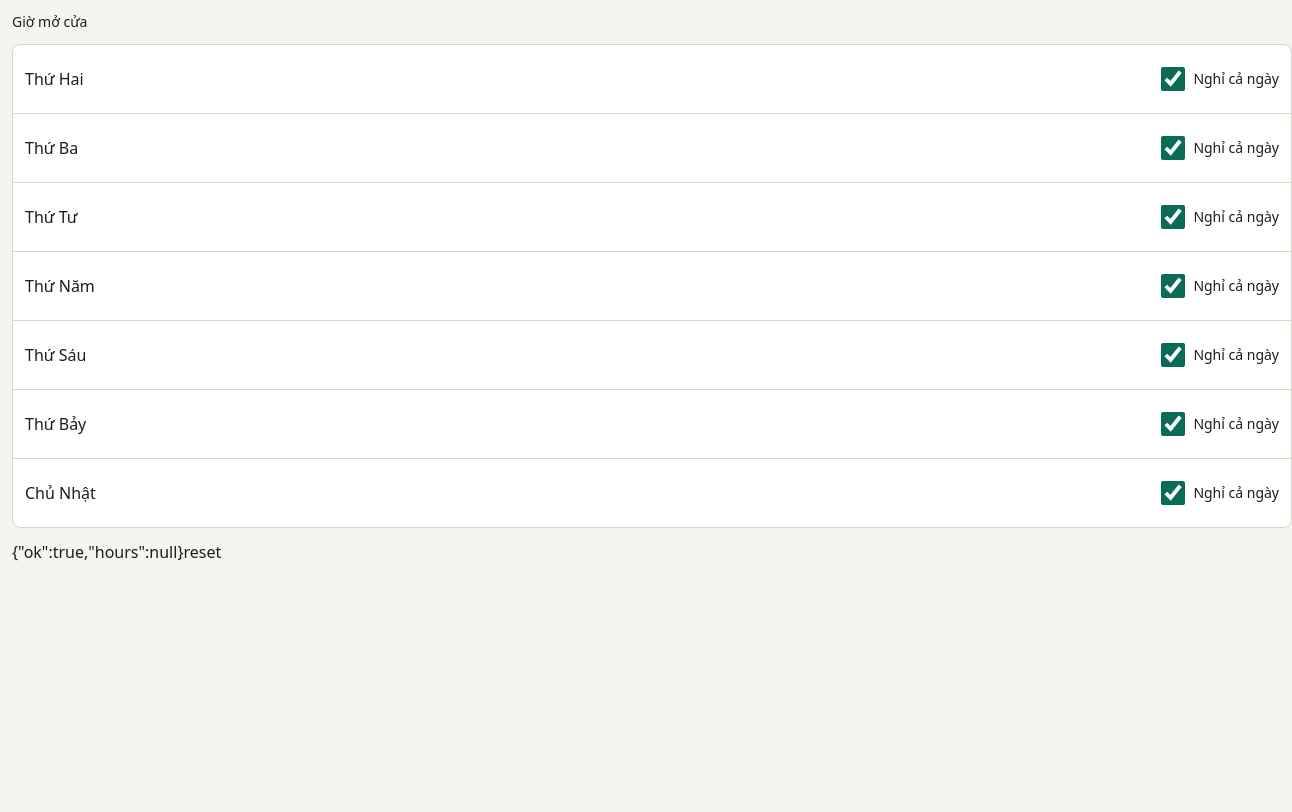
Test: OpeningHoursEditor › opens a closed day, adds a split span past midnight and writes the database shape
Click the checkbox named "Thứ Bảy, nghỉ cả ngày". click: (1173, 424)
box: [1161,412,1185,436]
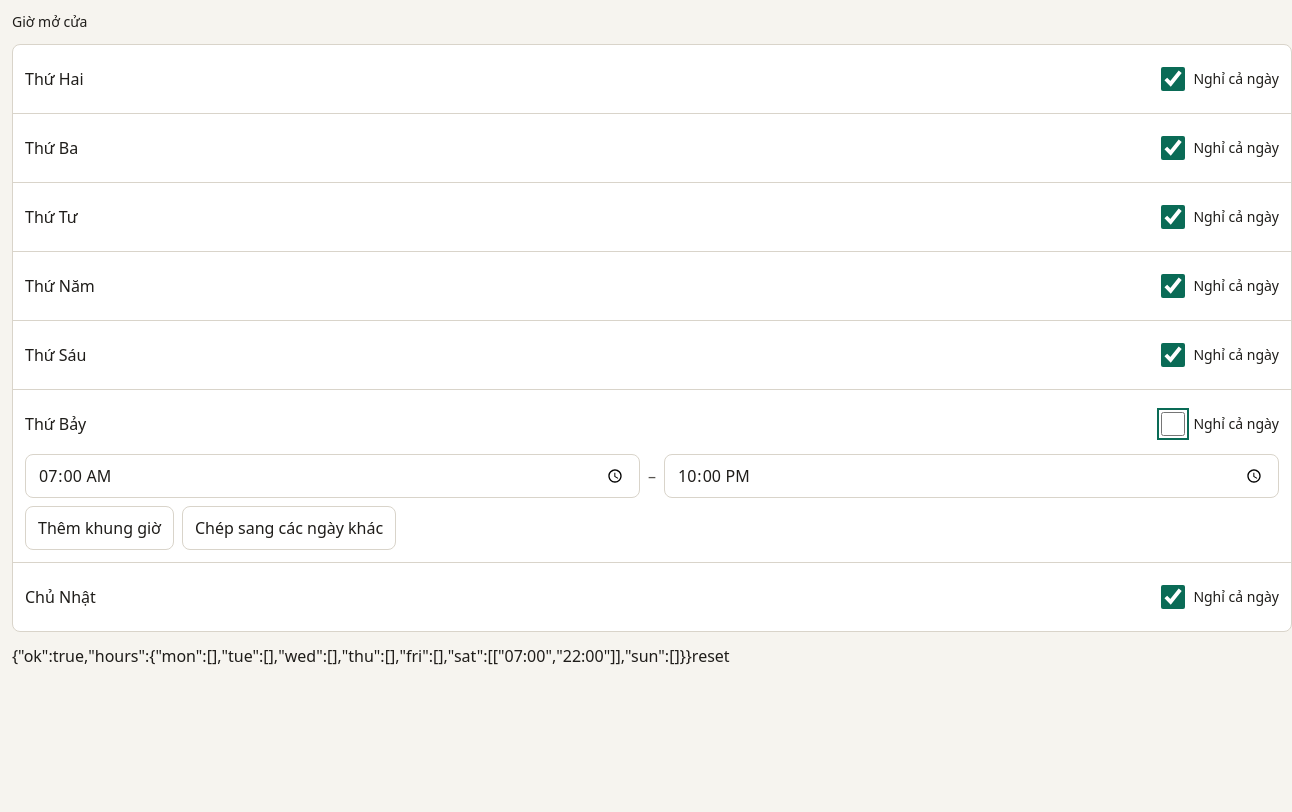
Click the button with aria-label "Thêm khung giờ cho Thứ Bảy". click: (100, 528)
box: [25,506,174,550]
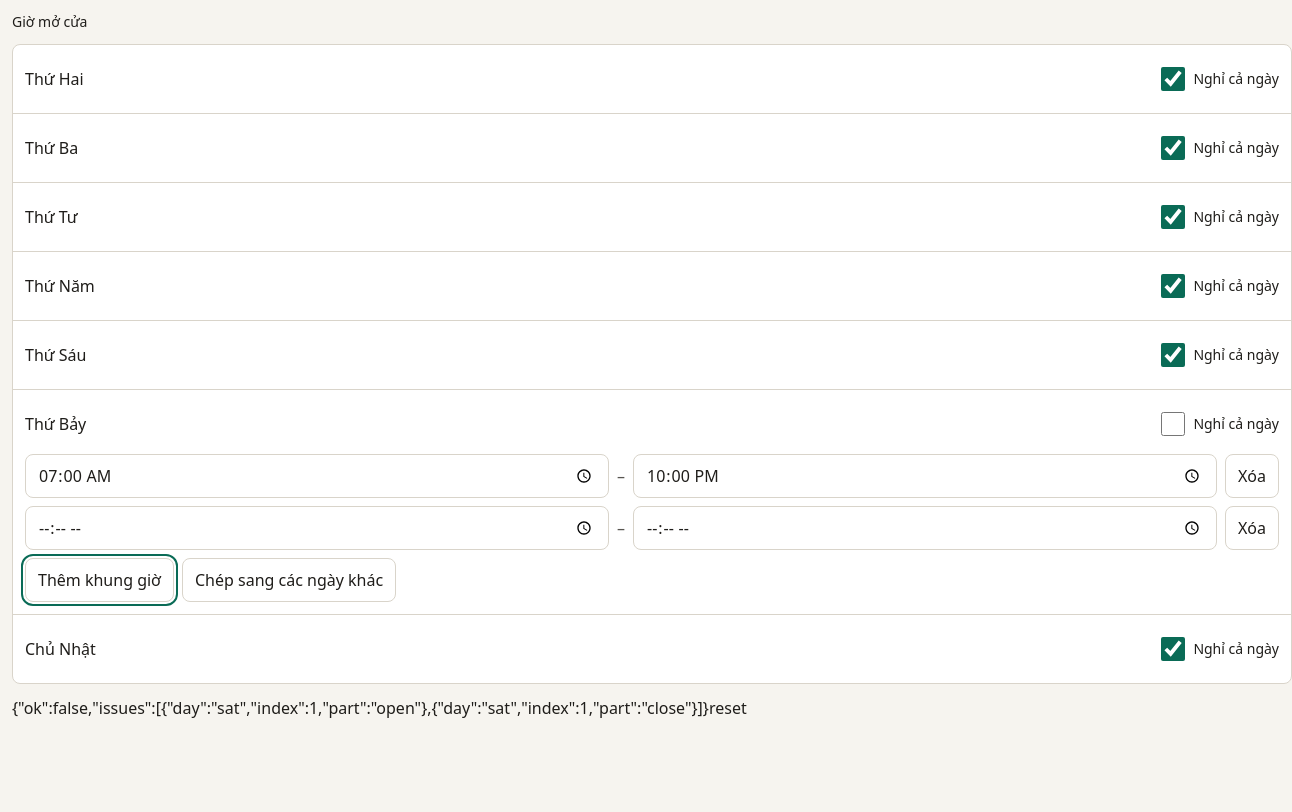
Type "17:00" into the time field named "Thứ Bảy, giờ mở khung 2". click: (317, 528)
box: [25,506,609,550]
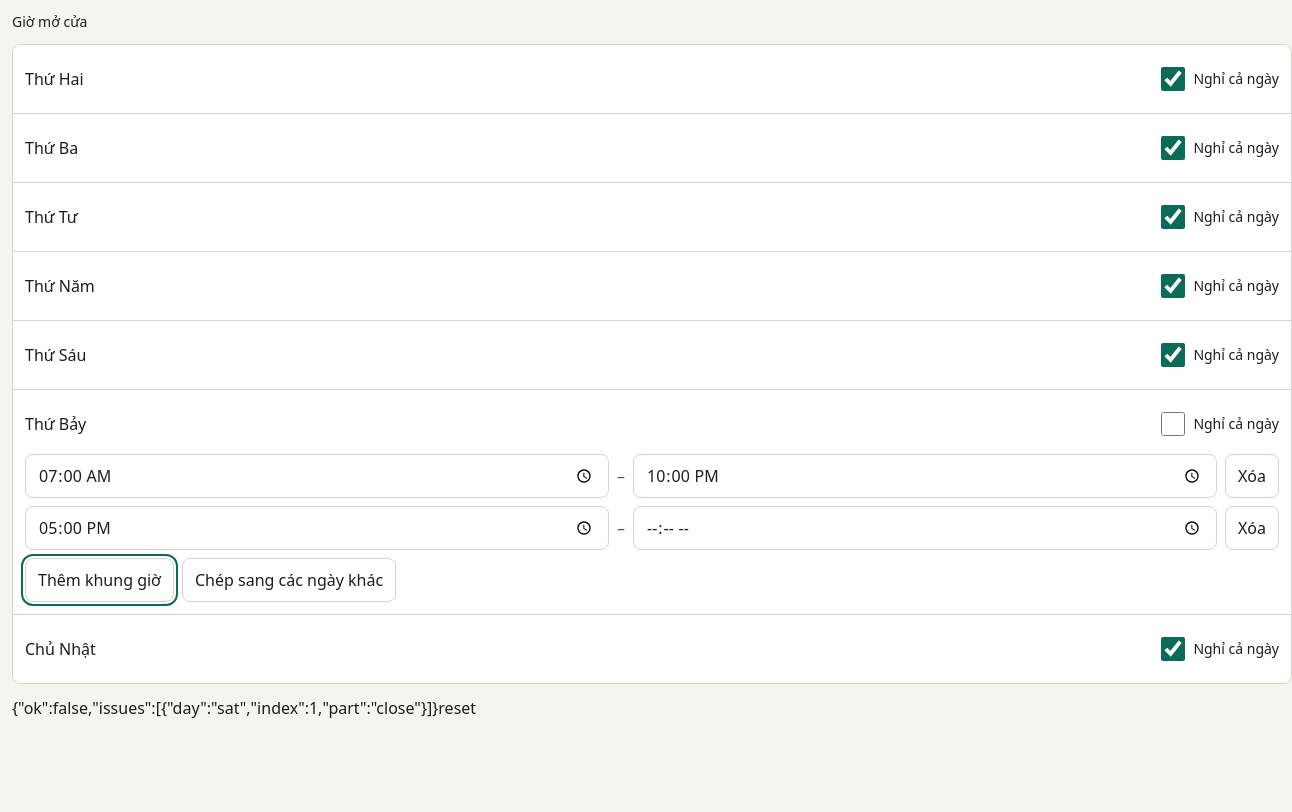
Type "01:00" into the time field named "Thứ Bảy, giờ đóng khung 2". click: (925, 528)
box: [633,506,1217,550]
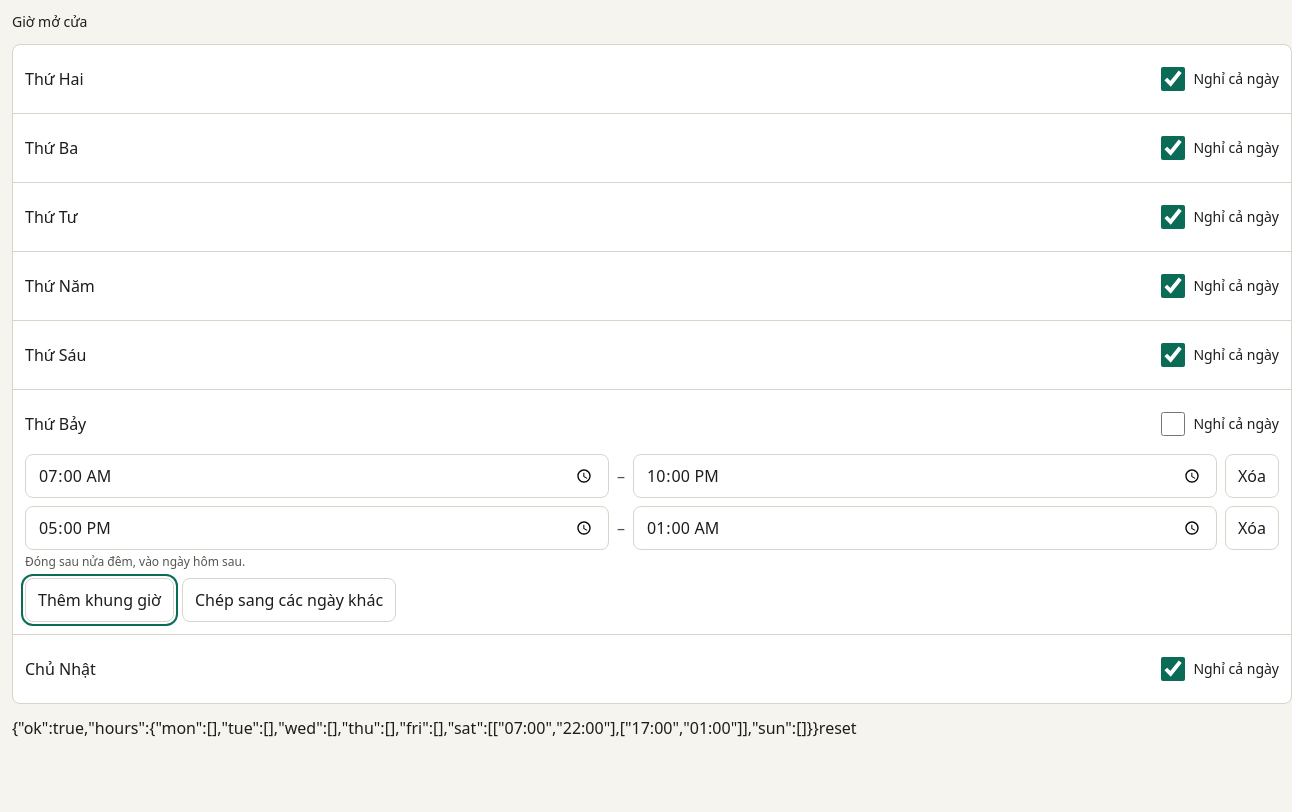
Check: the text with test id "opening-hours-overnight" shows "Đóng sau nửa đêm", box [25,553,245,570]
